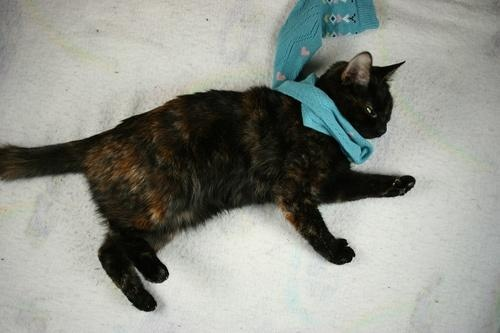cat: (1, 51, 418, 314)
